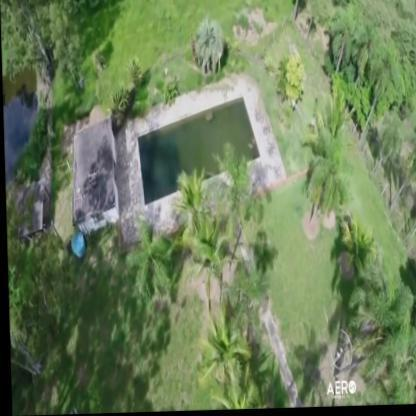agua: (151, 100, 243, 201)
